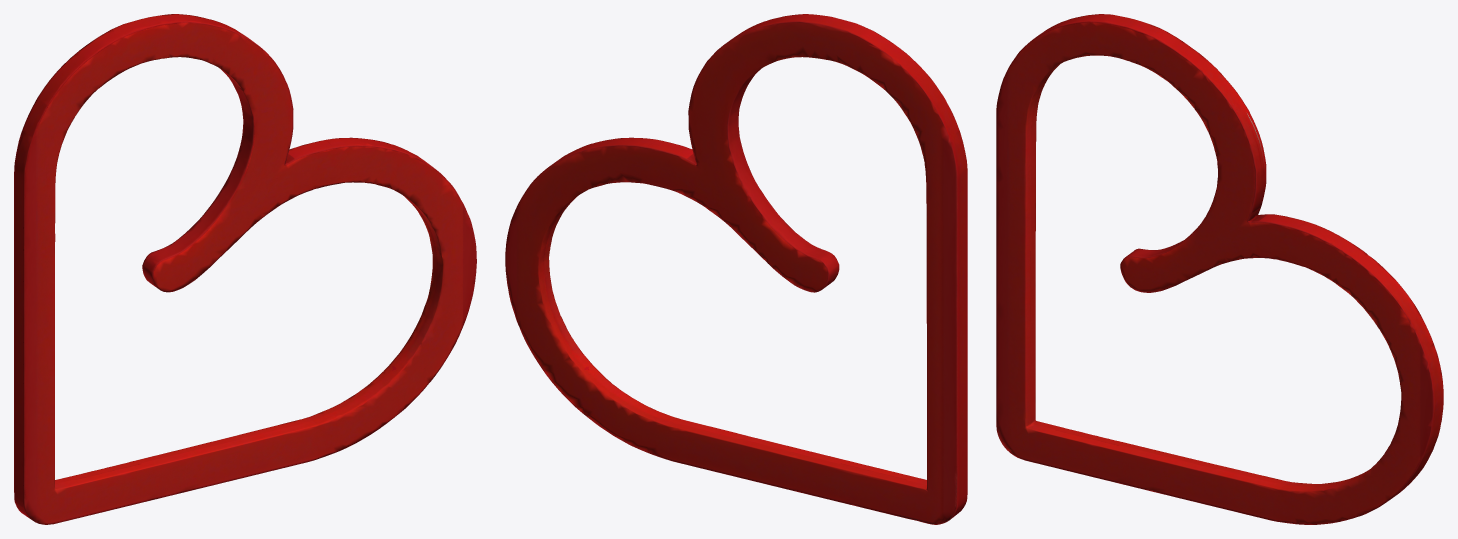
The model's file is heart.glb.
3 renders of one model, left to right at view 1: azimuth 30°, elevation 25°; view 2: azimuth 150°, elevation 25°; view 3: azimuth 330°, elevation 25°, orthographic. The views are drawn at different scales.
Size of the model in its own units: 2 by 2 by 0.0822.
Materials: 1 (1 with a texture image).
